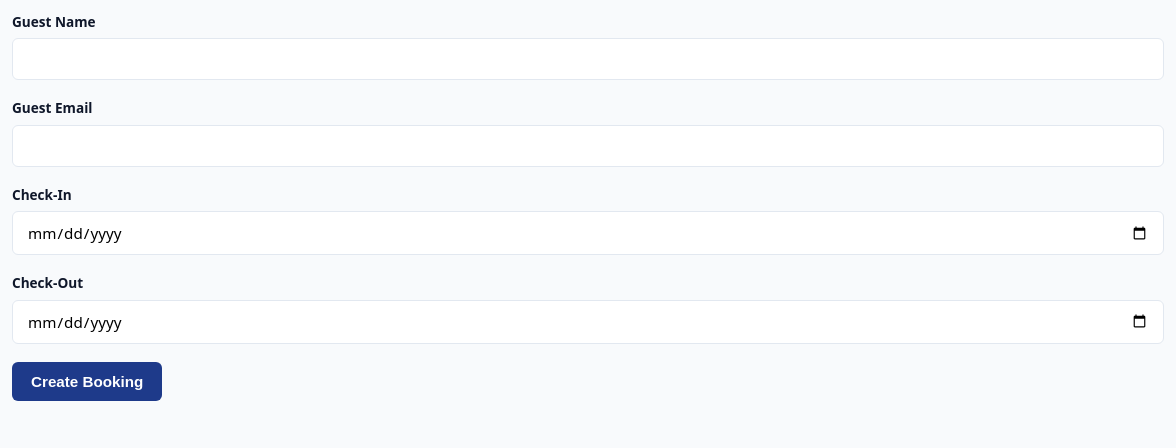
Test: BookingForm › shows error for invalid email
Type "John" into the field labelled "Guest Name" at (588, 59), box [12,38,1164,80]
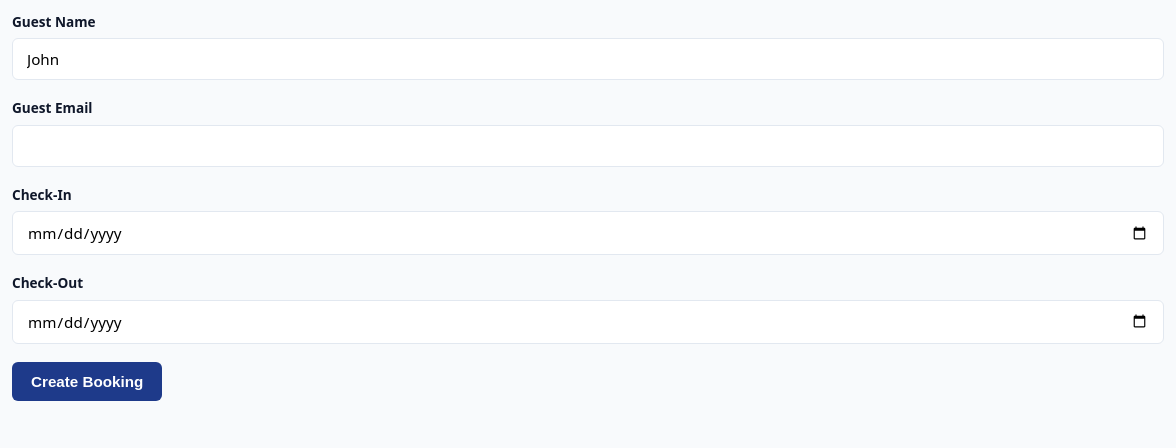
Type "abc" into the field labelled "Guest Email" at (588, 146), box [12,125,1164,167]
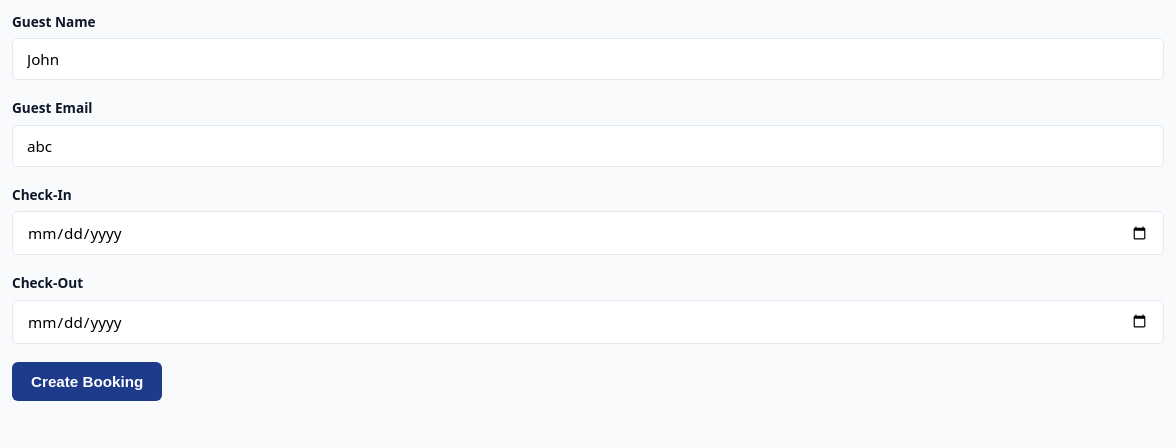
Type "2023-01-01" into the date field labelled "Check-In" at (588, 233), box [12,211,1164,255]
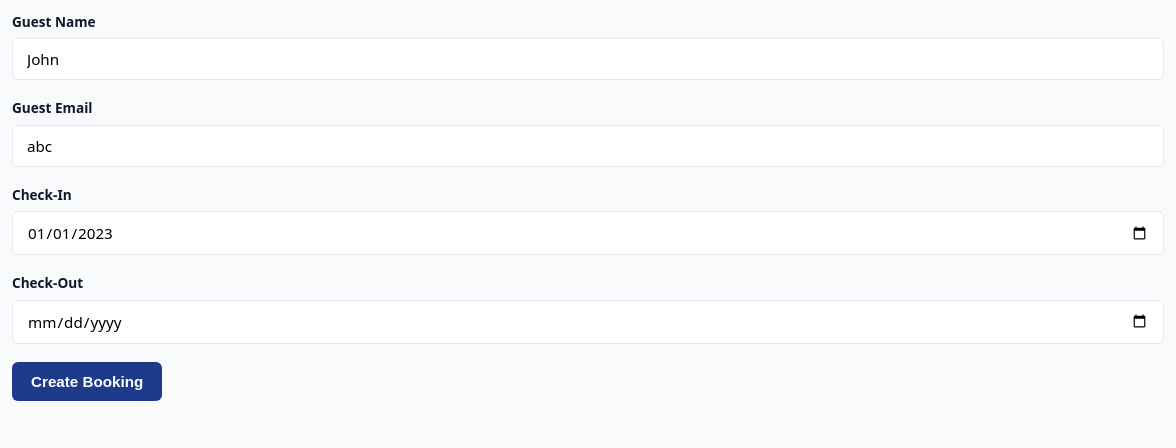
Type "2023-01-05" into the date field labelled "Check-Out" at (588, 322), box [12,300,1164,344]
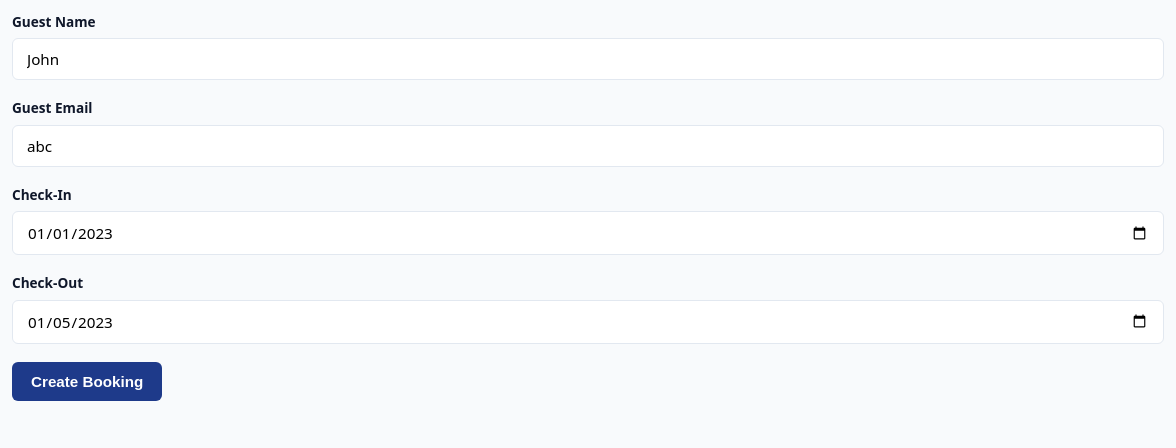
Click the button "Create Booking" at (87, 381), box [12,362,162,401]
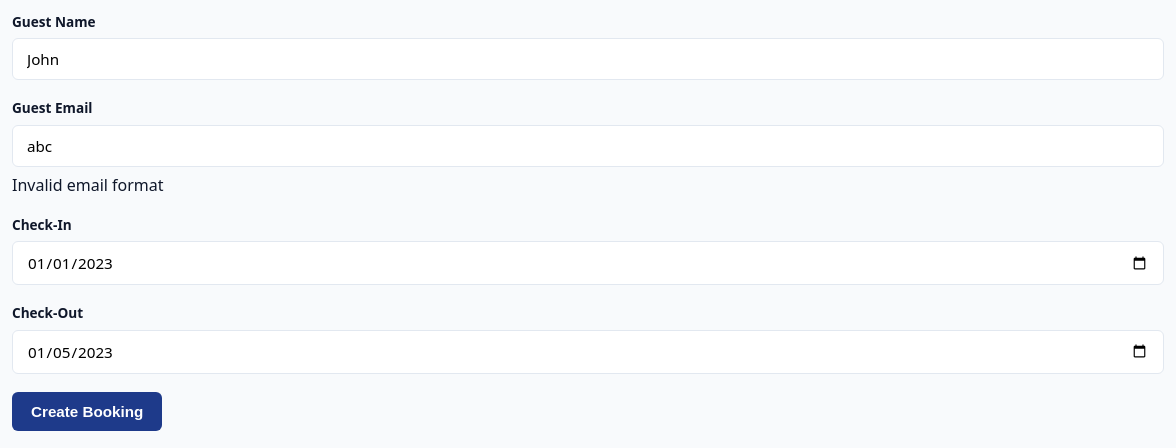
Expected: the text "Invalid email format" is shown, [12,174,164,196]
